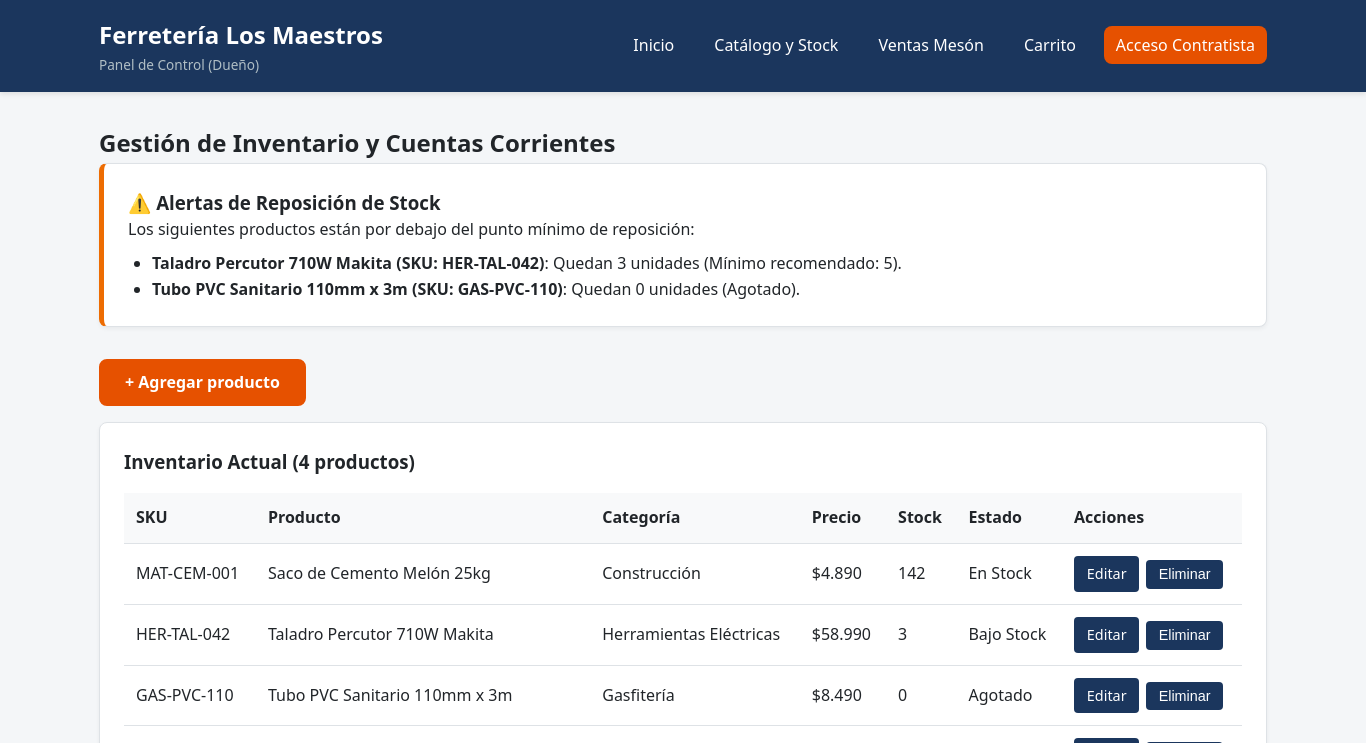
Test: Admin › muestra el error del servidor cuando no se puede eliminar
The width and height of the screenshot is (1366, 743).
Step 1. Click the button "Eliminar" in the row of "MAT-CEM-001" → (1185, 574), box left=1146, top=560, right=1223, bottom=589
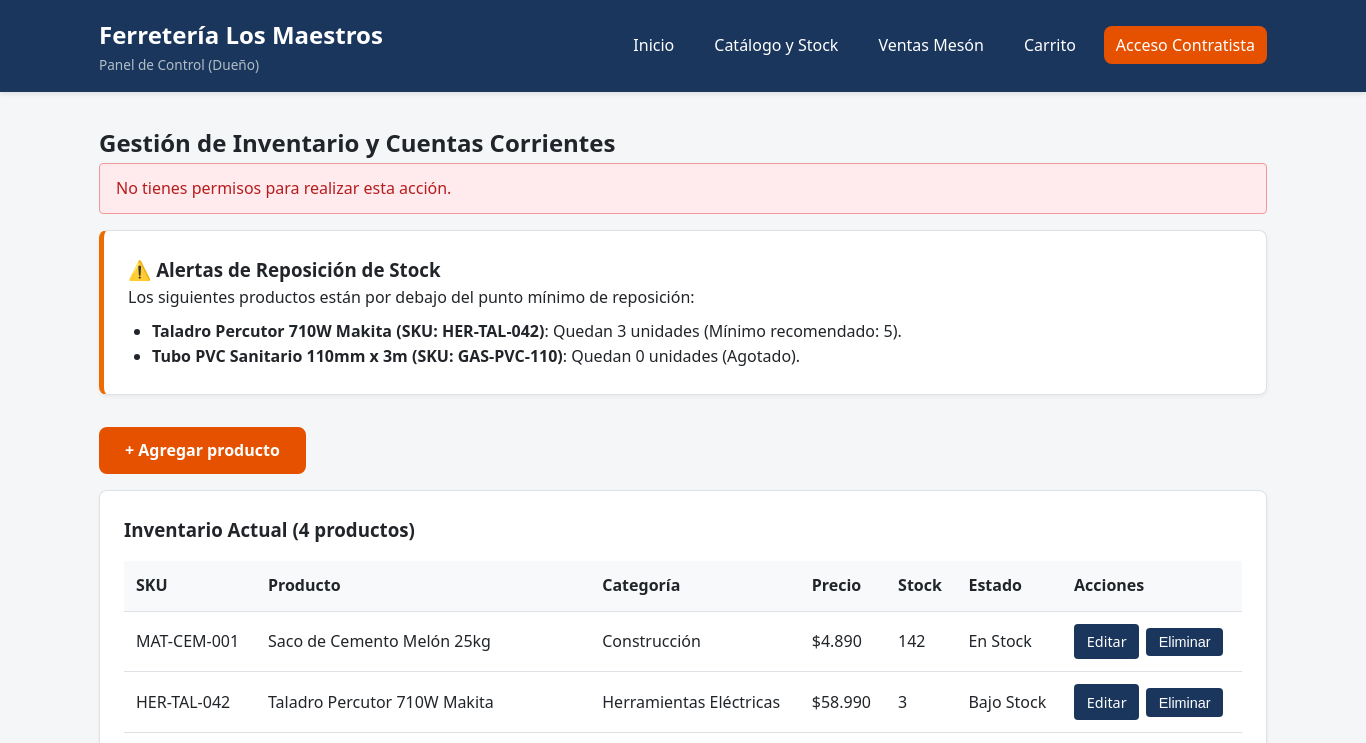
Check: the message shows "No tienes permisos", box left=116, top=176, right=451, bottom=198
